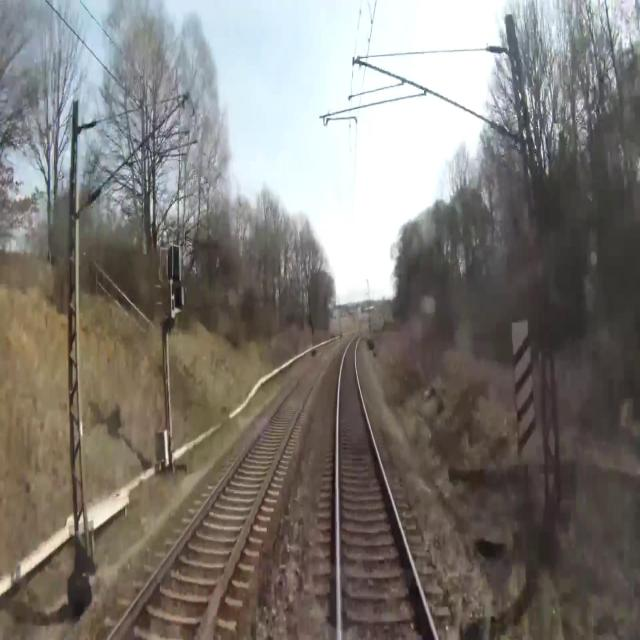rail-track: (108, 340, 337, 639), (339, 333, 434, 639)
